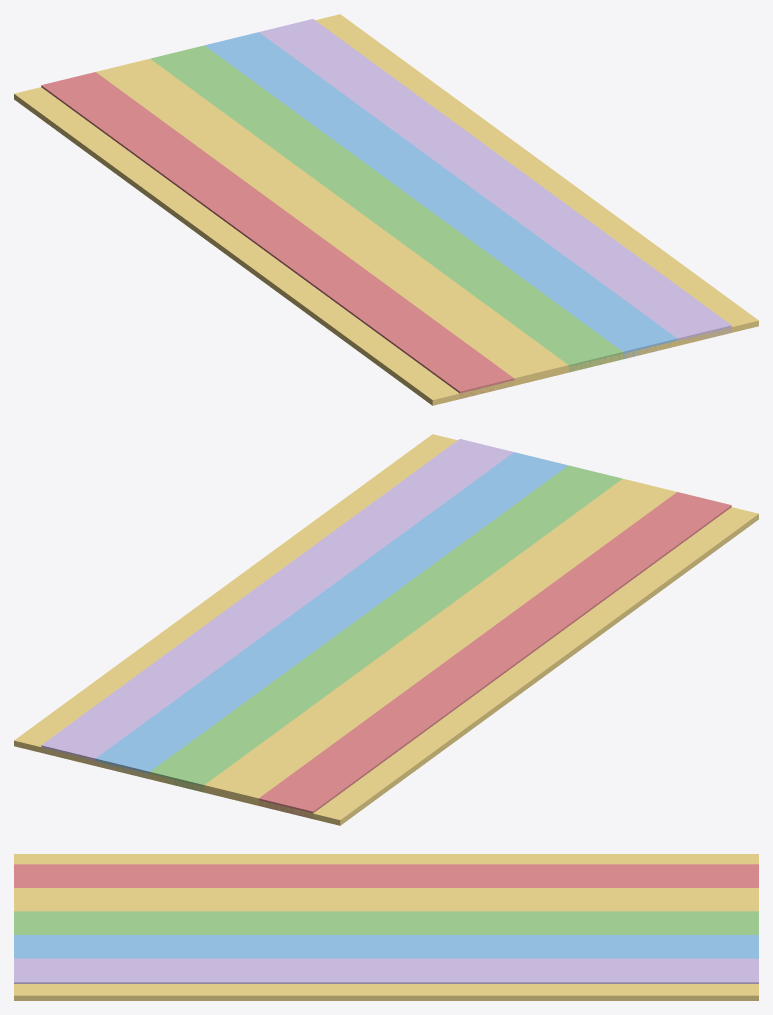
File: fx_runner.glb
3 renders of one model, top to bottom at view 1: azimuth 30°, elevation 25°; view 2: azimuth 150°, elevation 25°; view 3: azimuth 270°, elevation 25°, orthographic. The views are drawn at different scales.
Visible parts, largest first — view 1: fx_runner; view 2: fx_runner; view 3: fx_runner.
Boxes of the visible parts, x1,y1,x2,y2 form: fx_runner: (14, 14, 758, 405); fx_runner: (14, 434, 758, 825); fx_runner: (14, 854, 758, 1000).
Size of the model in its own units: 1.8 by 0.04 by 4.
